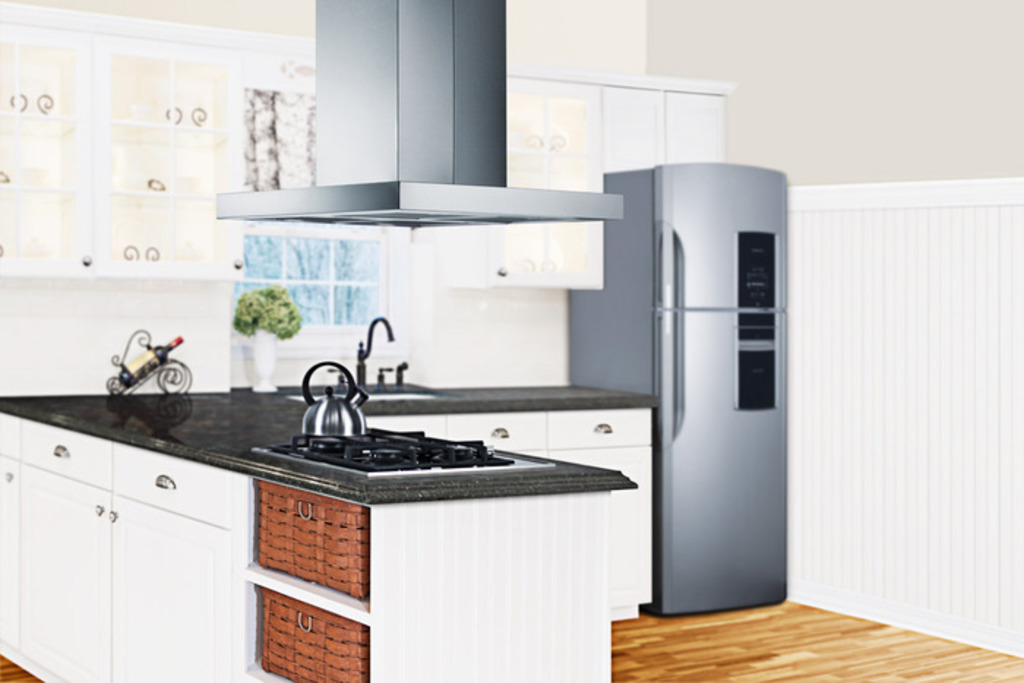cabinet door: (101, 44, 219, 270), (0, 28, 89, 266), (116, 516, 220, 683), (26, 474, 110, 669), (258, 493, 358, 568), (262, 613, 364, 681), (602, 90, 661, 167), (666, 95, 722, 162), (26, 428, 110, 472), (131, 461, 222, 501)
handle: (650, 220, 682, 305), (665, 322, 680, 440), (296, 608, 317, 631), (146, 479, 180, 493), (490, 425, 510, 442), (52, 443, 74, 458), (292, 500, 314, 515), (594, 422, 616, 436)
refrigerator door: (664, 317, 785, 606), (661, 167, 783, 313)
